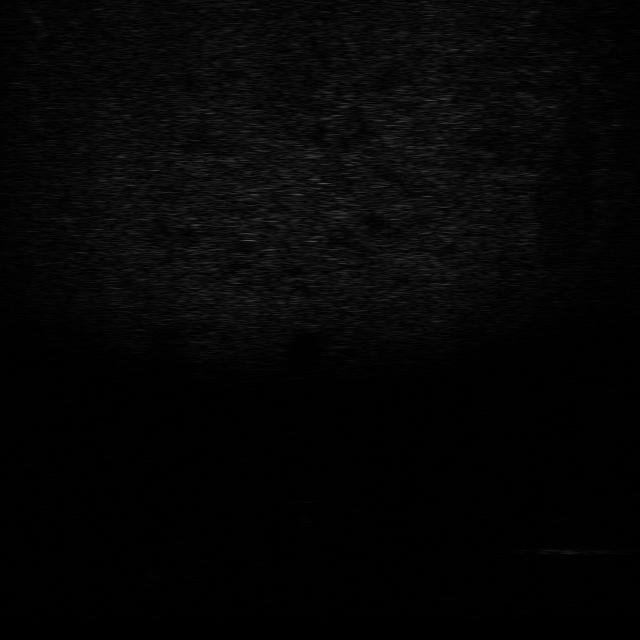ball: (277, 482, 325, 505)
metal bucket: (528, 540, 618, 558)
tyre: (141, 556, 181, 583)
